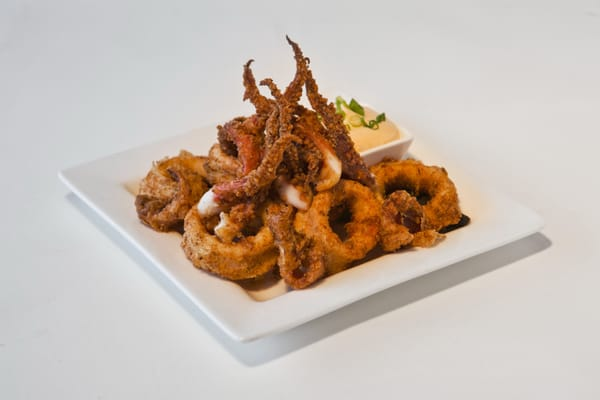salad: (371, 159, 464, 250)
